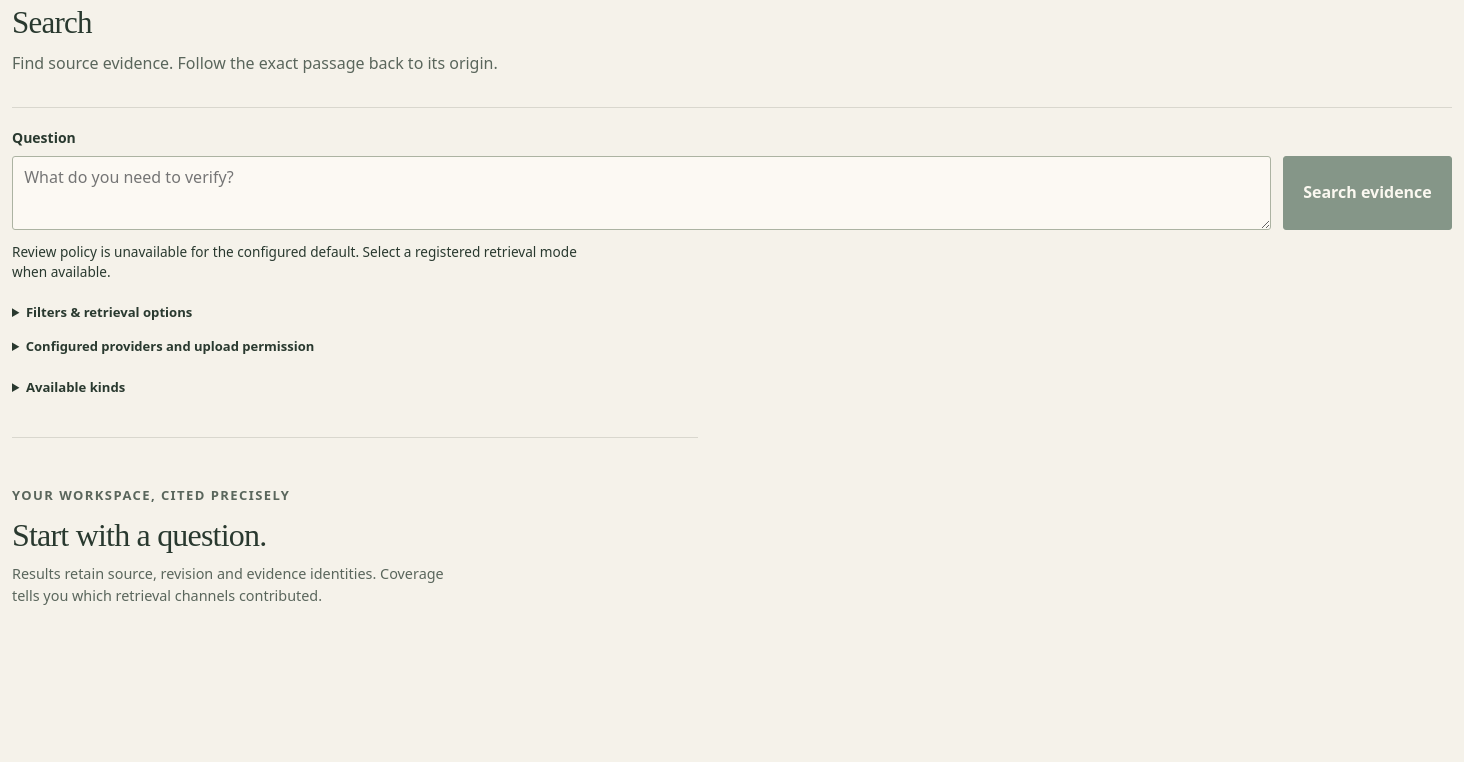
Scenario: defaults to exact returned blocks and never fetches full unit implicitly
The width and height of the screenshot is (1464, 762).
In the text box labelled "Question": (641, 192) x1=12 y1=156 x2=1271 y2=230, type "synthetic"
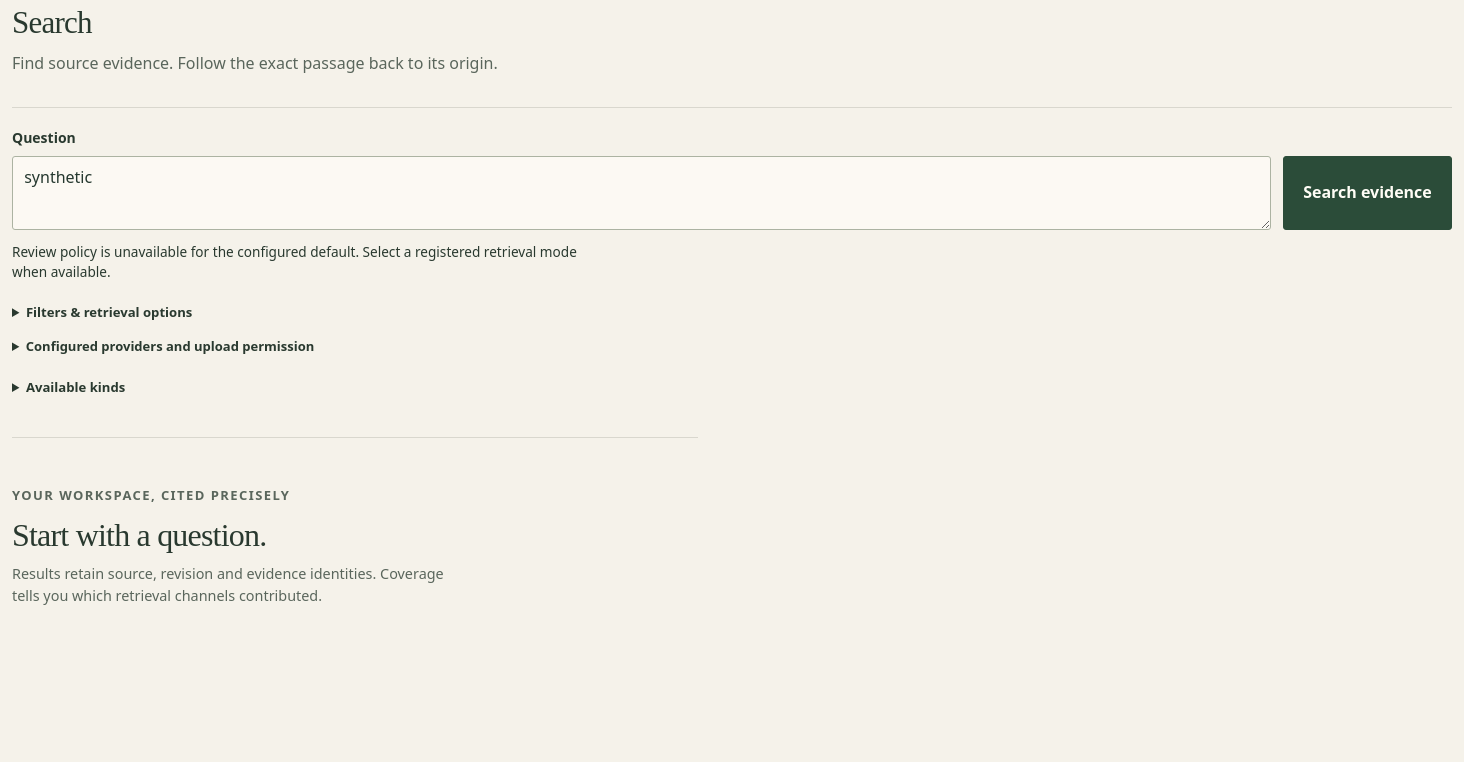
Click the button "Search evidence": (1367, 192) x1=1283 y1=156 x2=1452 y2=230
(page scrolled)
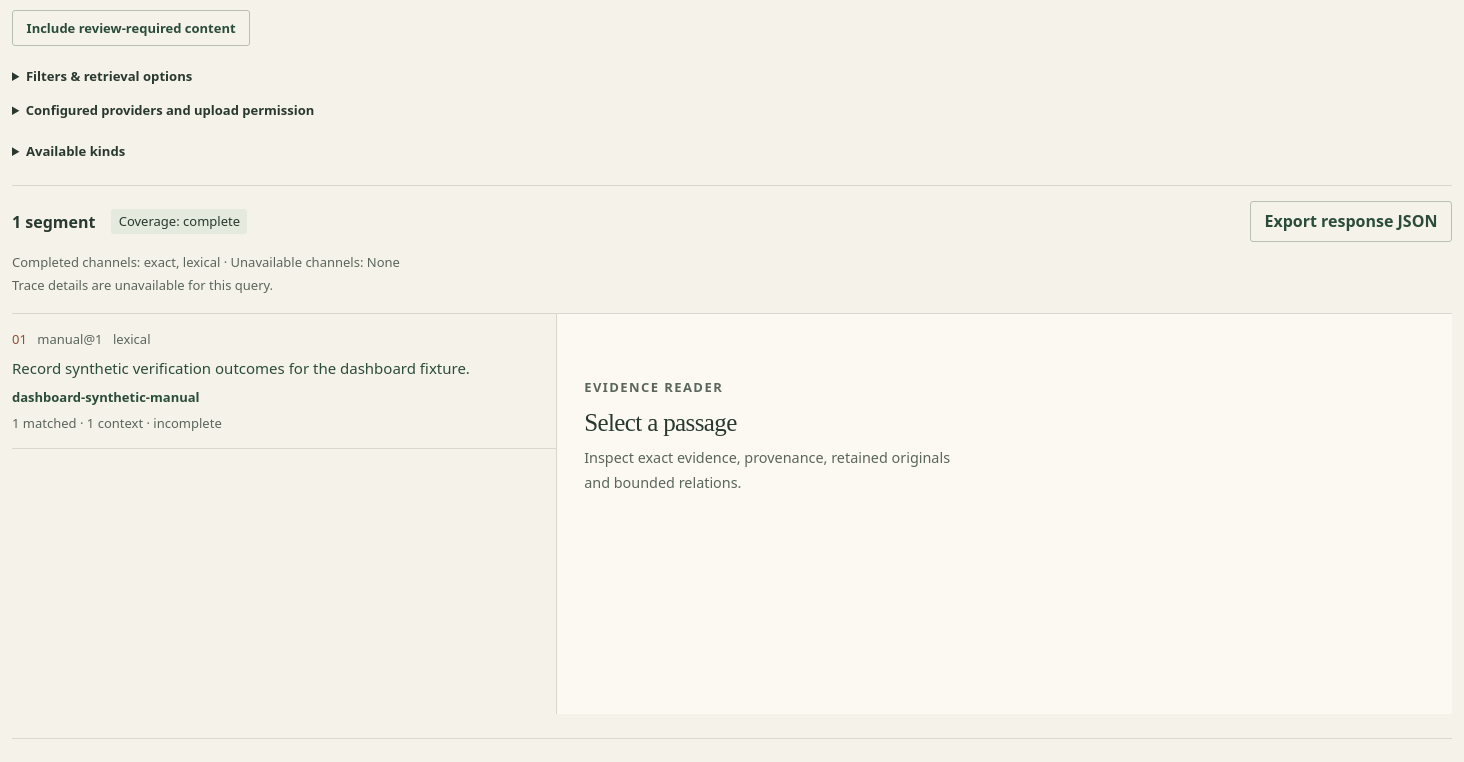
Click the button "Record synthetic": (70, 339) x1=12 y1=314 x2=556 y2=448
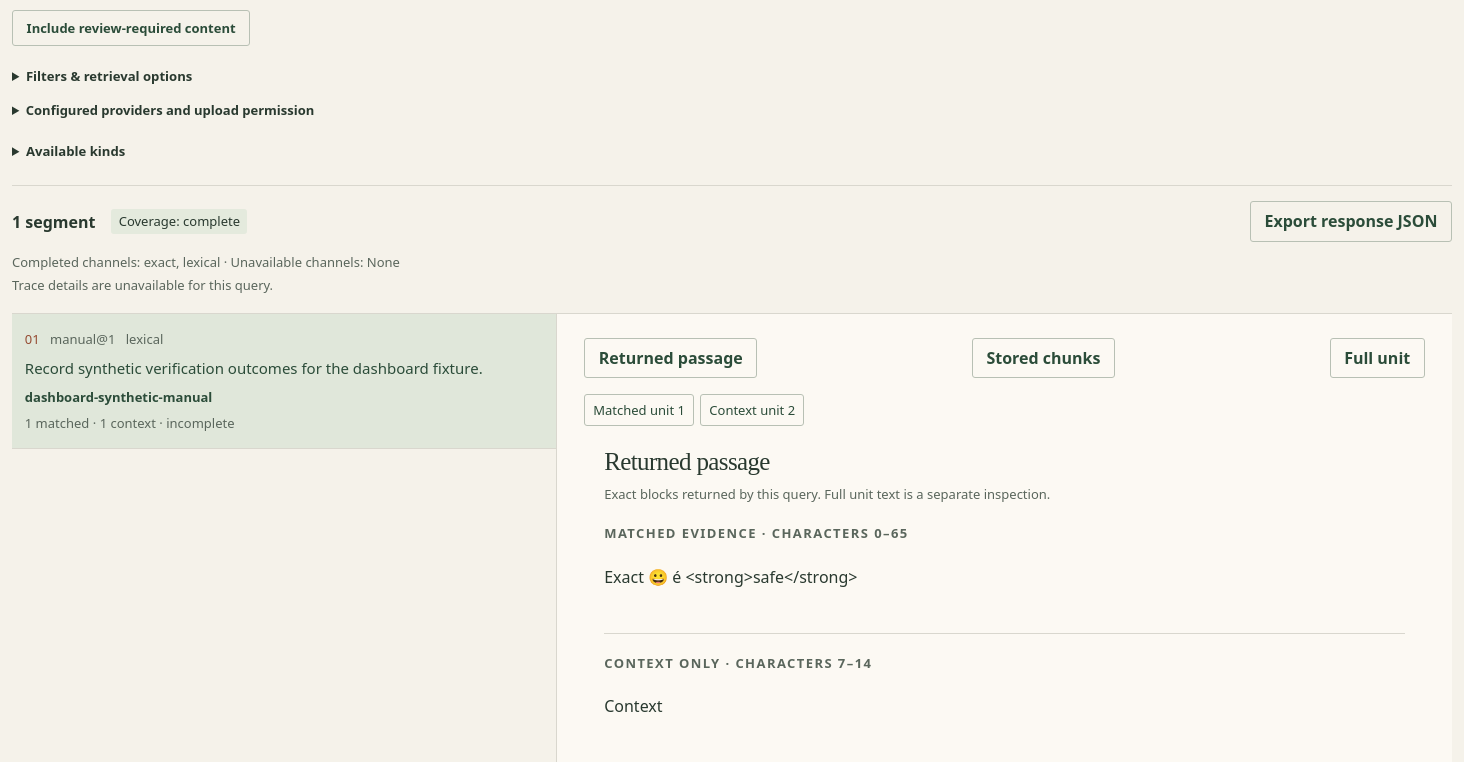
Expected: the text "Context only · characters 7–14" is shown, x1=604 y1=654 x2=872 y2=672
Click the button "Full unit": (1377, 358) x1=1330 y1=338 x2=1425 y2=378
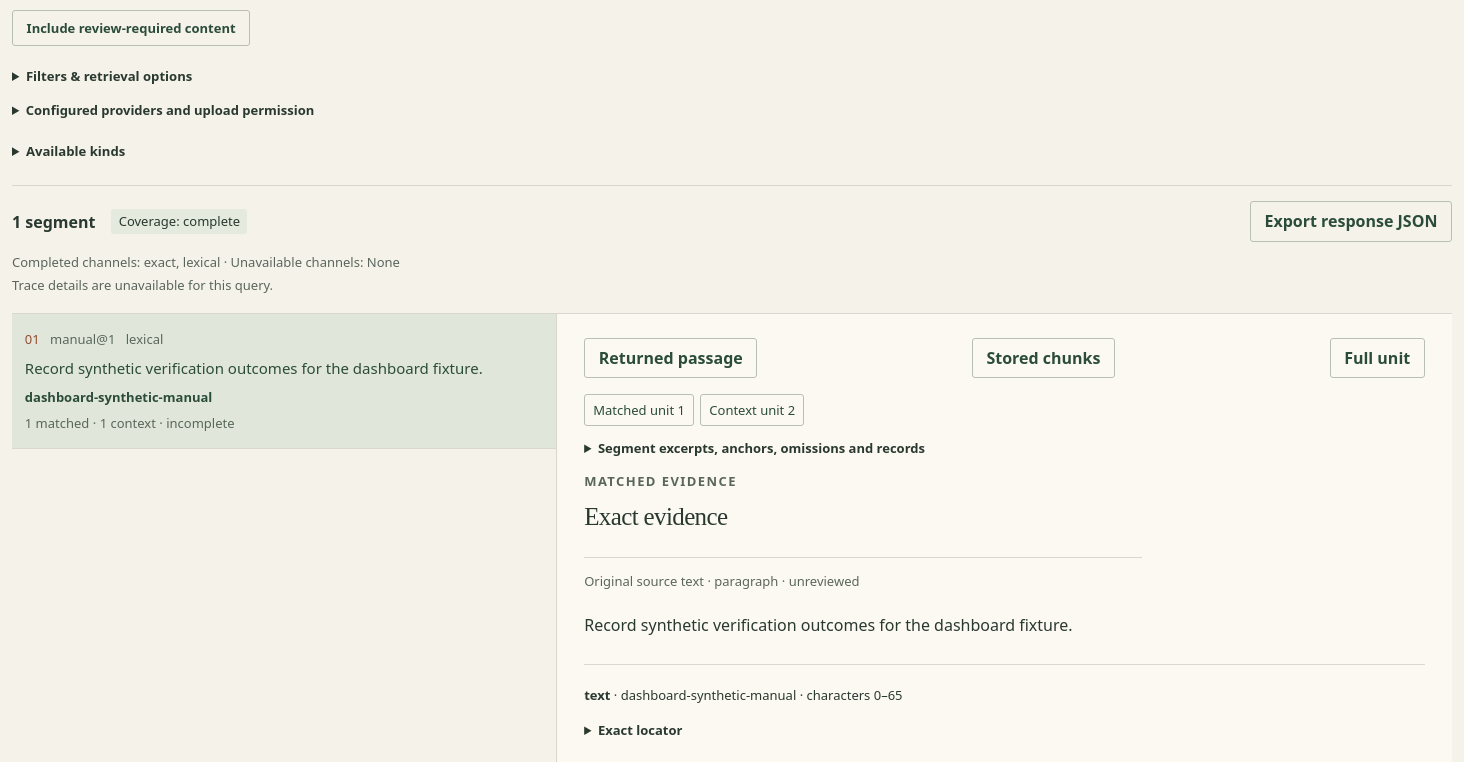
Expected: the heading "Exact evidence" is shown, x1=584 y1=503 x2=728 y2=530
